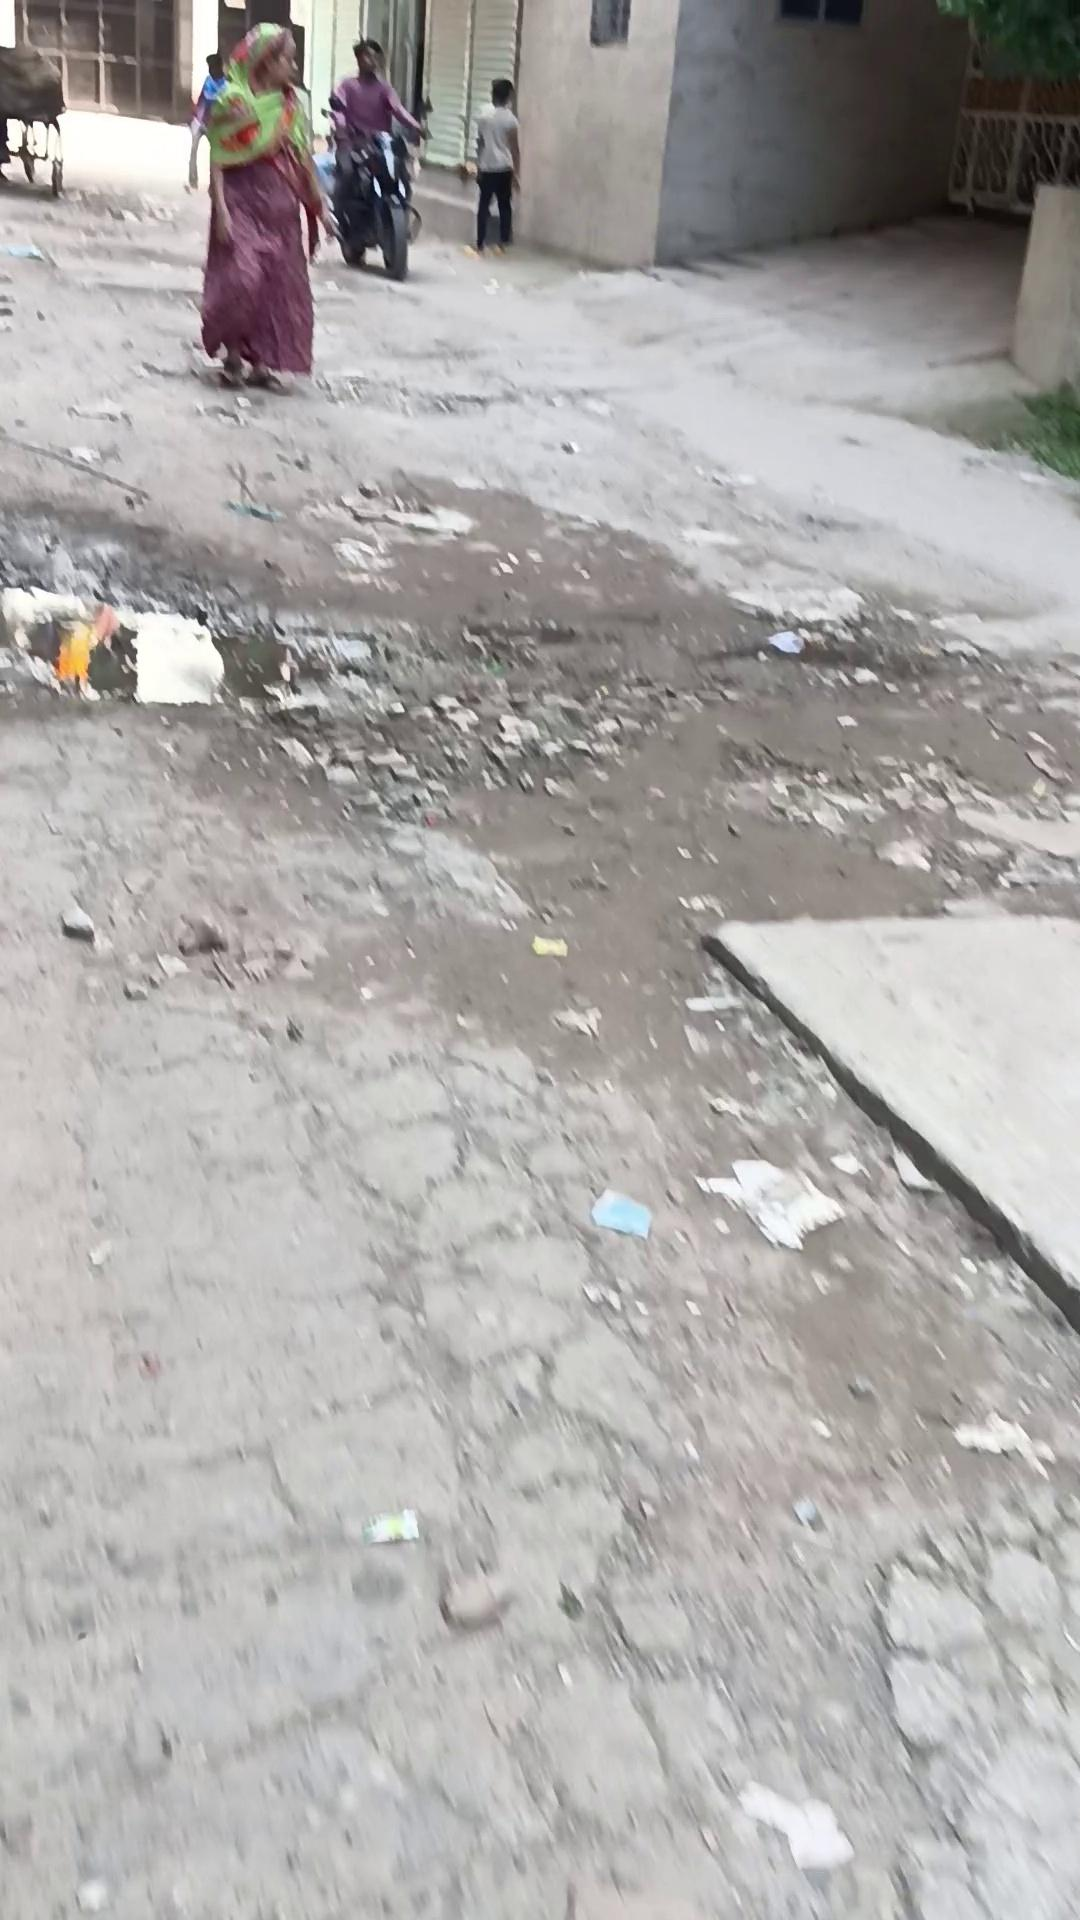Broken-road: (4, 99, 1075, 1913)
Crosswalk: (698, 907, 1077, 1331)
Light-pole: (316, 96, 429, 282)
Muddy road: (196, 20, 340, 393), (469, 78, 521, 255), (185, 51, 227, 193)
